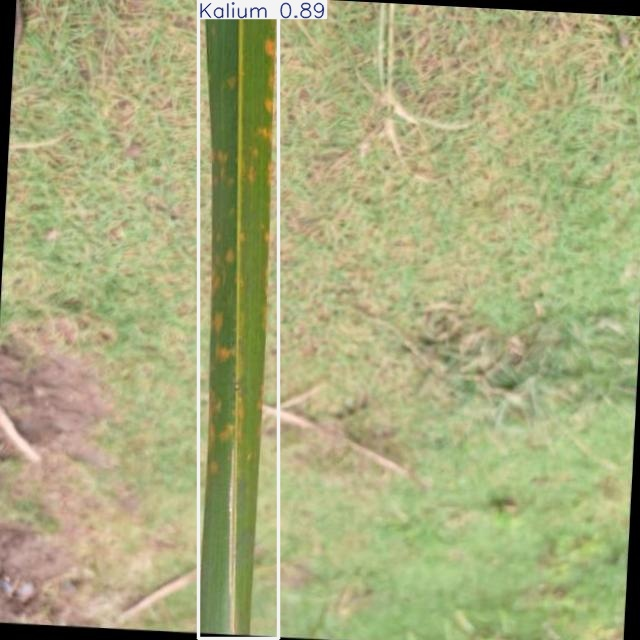Kalium: (198, 0, 279, 639)
